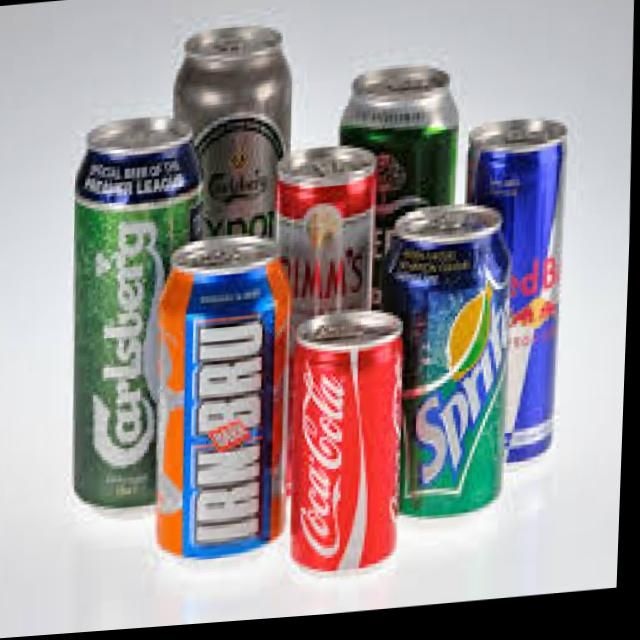Lata: (149, 237, 298, 566)
